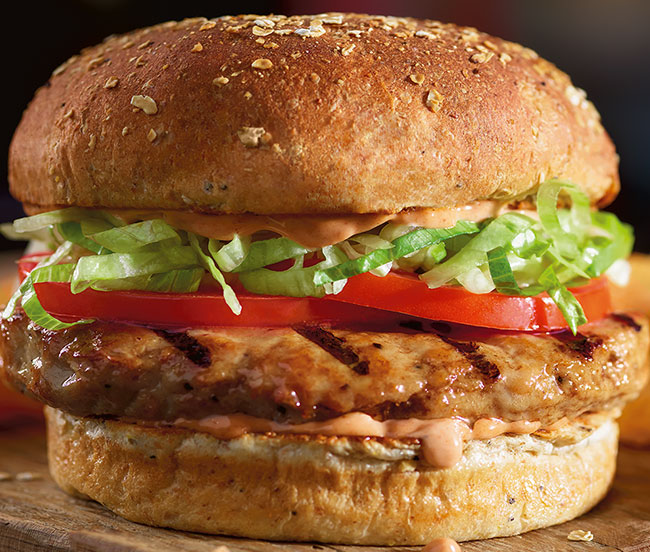hamburger_buns: (15, 9, 622, 220)
